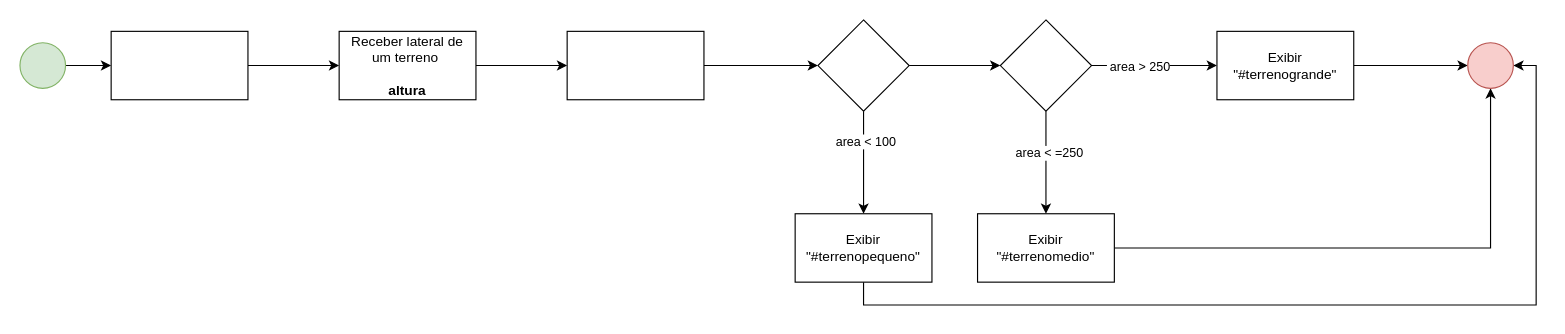
Some shapes in this 1565 by 334 pixel diagram are drawn without their labels. Here are the shapes that lost their labels. From the top down, the centre of each, then its label:
At pixel 179 65: "Receber frente de um terreno base".
At pixel 635 65: "Calcular área do terreno area = base*largura".
